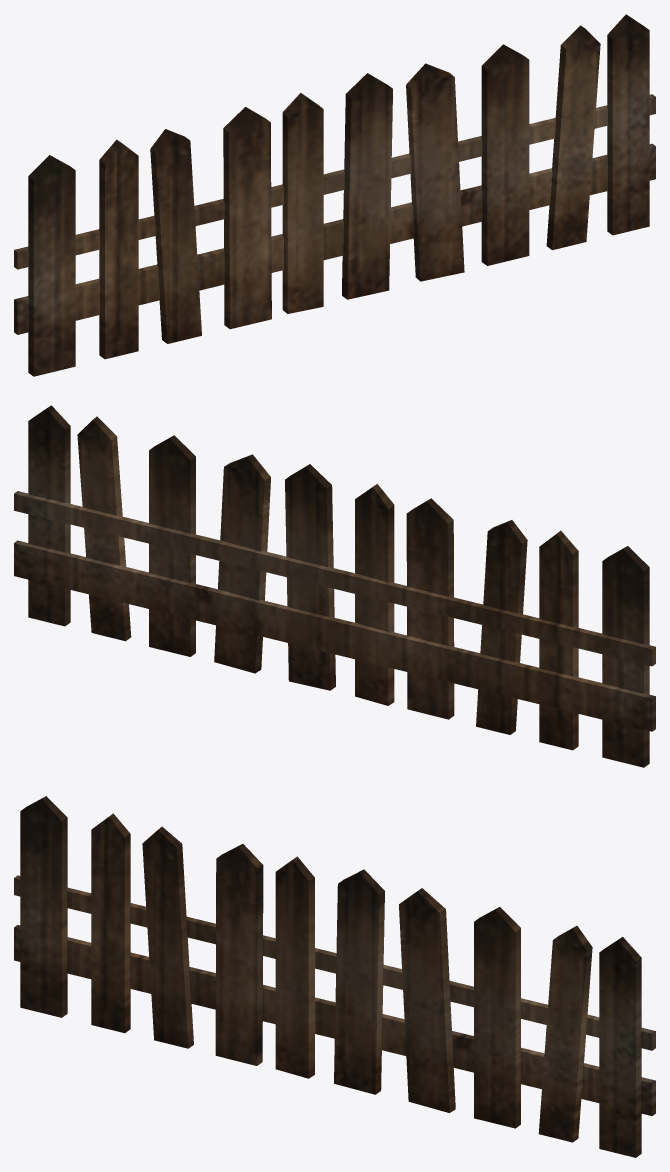
File: Fence1.fbx
3 renders of one model, top to bottom at view 1: azimuth 30°, elevation 25°; view 2: azimuth 150°, elevation 25°; view 3: azimuth 330°, elevation 25°, orthographic.
Visible parts, largest first — view 1: Fence; view 2: Fence; view 3: Fence.
Boxes of the visible parts, <box> form: Fence: <box>14,14,655,376</box>; Fence: <box>14,405,655,767</box>; Fence: <box>14,796,655,1157</box>.
Size of the model in its own units: 3.46 by 1.13 by 0.0876.
1 material, 1 textured.
